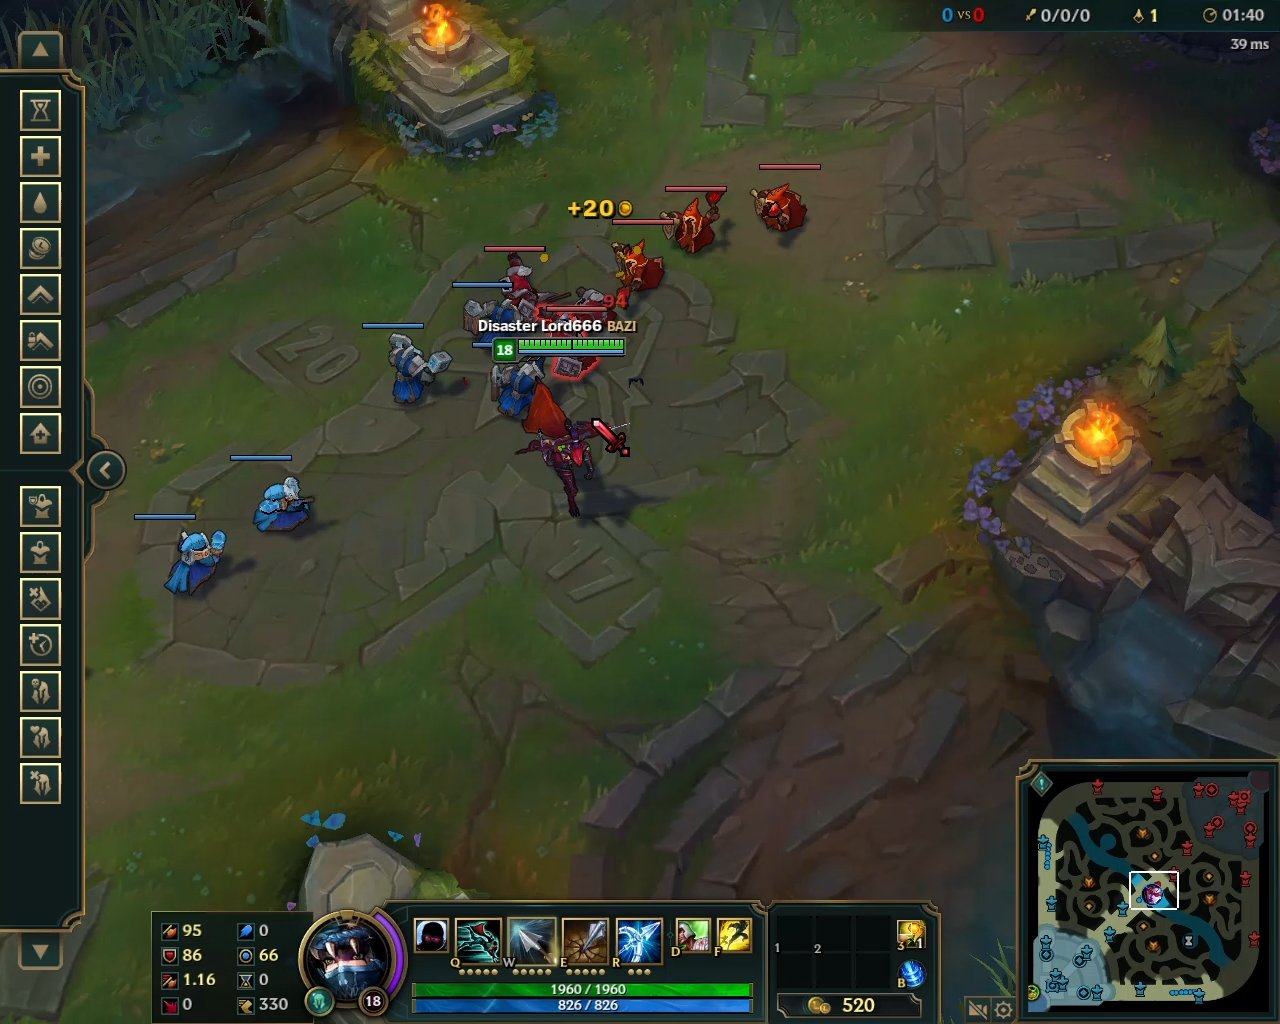EnemyMinion: (608, 219, 671, 307), (747, 163, 823, 235), (660, 183, 726, 259), (480, 247, 549, 316)
Vayne: (509, 373, 636, 521)
